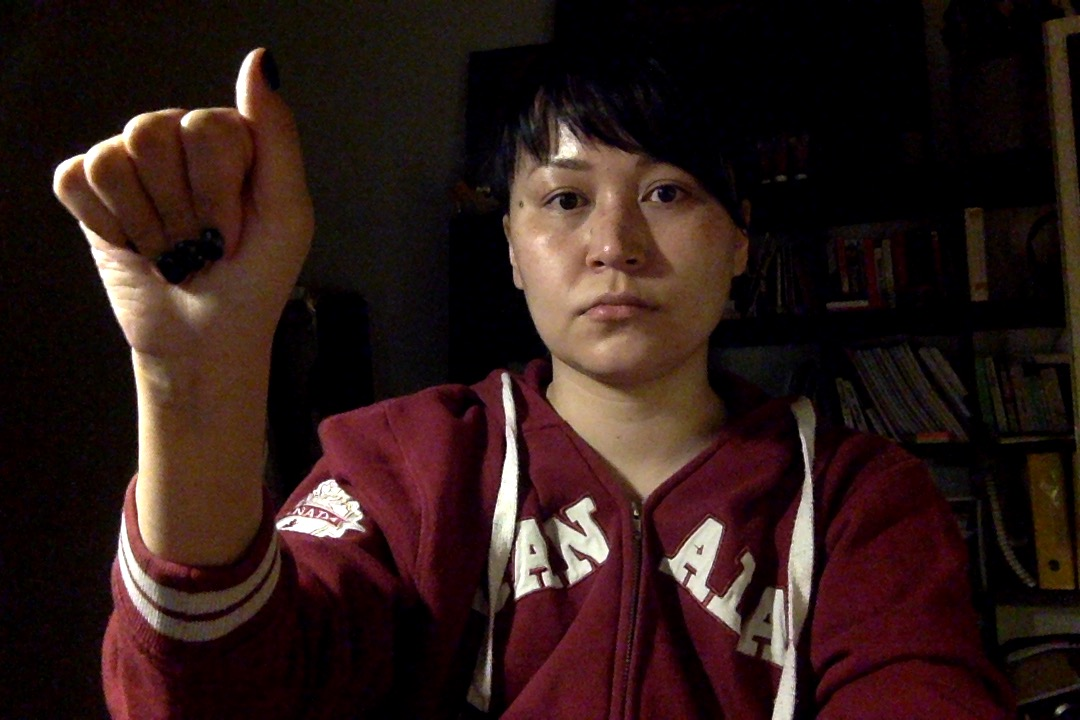a: (34, 42, 349, 413)
